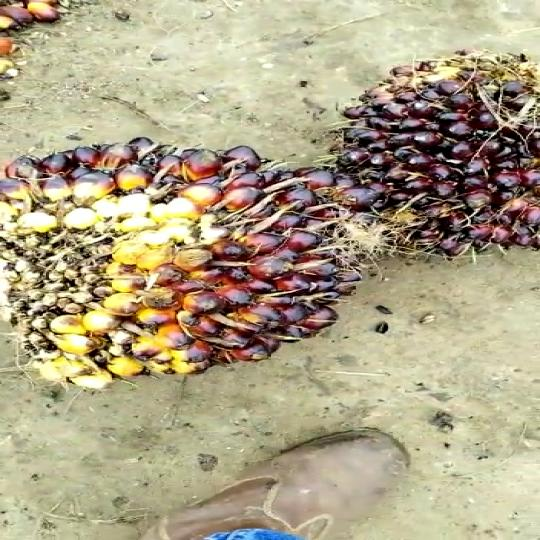kurang masak: (0, 127, 395, 386), (332, 53, 540, 270)
